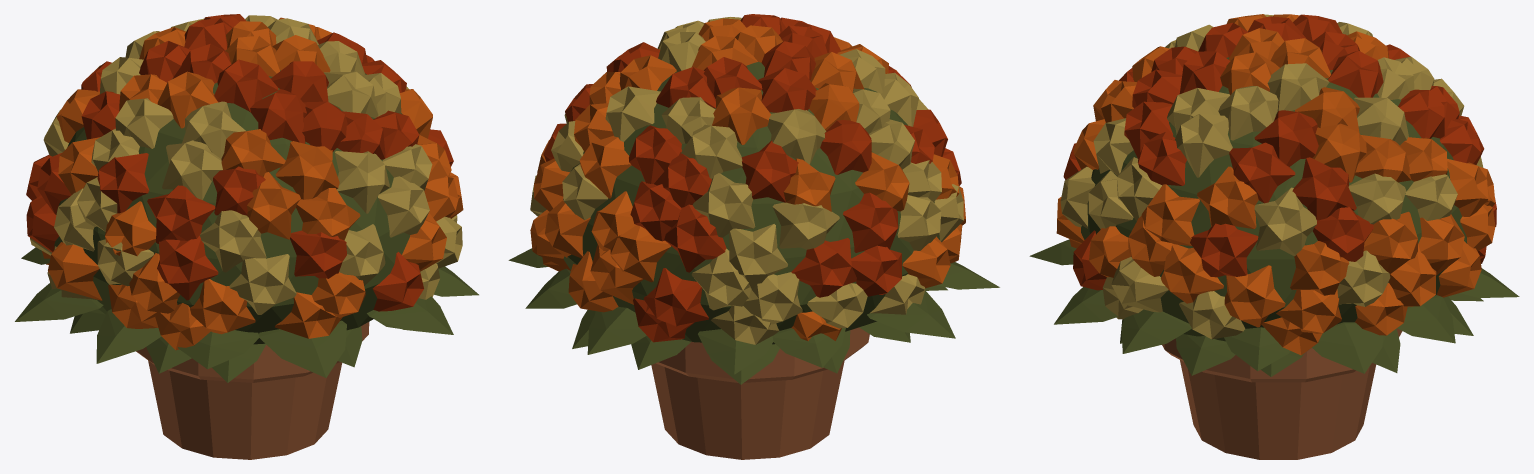
The model's file is potted-autumn-mums-08db8c.glb.
The picture shows the model from 3 angles, left to right: view 1: azimuth 30°, elevation 25°; view 2: azimuth 150°, elevation 25°; view 3: azimuth 270°, elevation 25°; orthographic projection.
Parts seen in each view (by area): view 1: potted-mums-body; view 2: potted-mums-body; view 3: potted-mums-body.
Boxes of the visible parts, x1,y1,x2,y2 form: potted-mums-body: [15, 14, 478, 459]; potted-mums-body: [508, 14, 999, 459]; potted-mums-body: [1029, 14, 1519, 459].
Size of the model in its own units: 0.6926 by 0.6167 by 0.7038.
